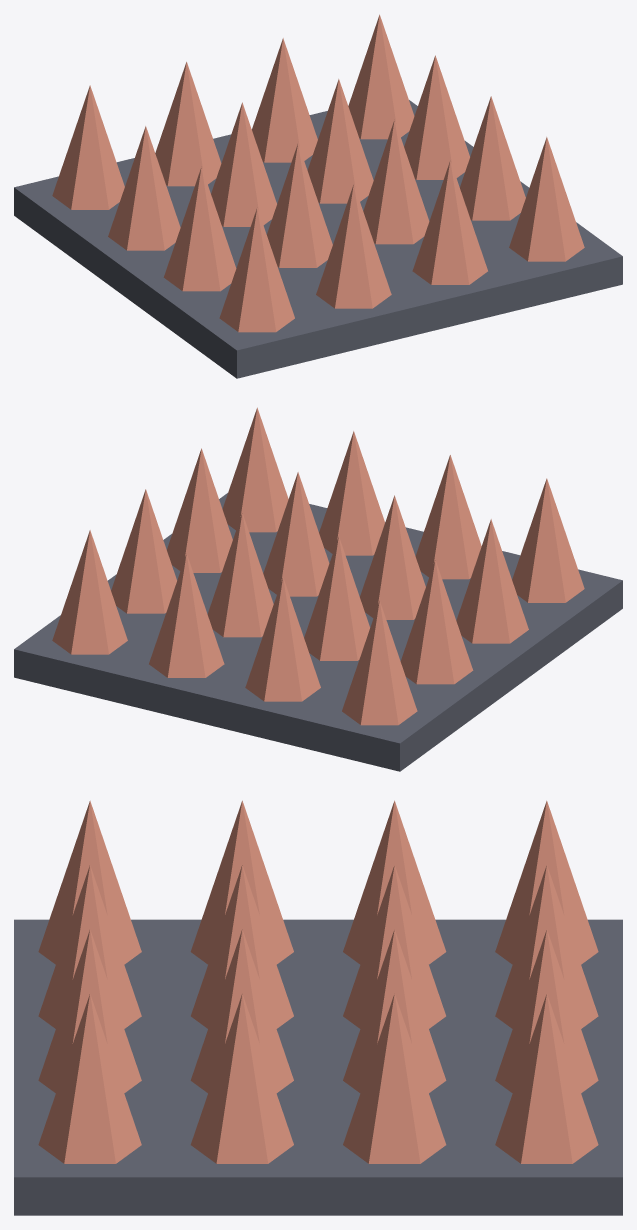
The model's file is Trap_Espinhos.fbx.
The picture shows the model from 3 angles, top to bottom: view 1: azimuth 30°, elevation 25°; view 2: azimuth 150°, elevation 25°; view 3: azimuth 270°, elevation 25°; orthographic projection. The views are drawn at different scales.
Visible parts, largest first — view 1: Trap_Espinhos; view 2: Trap_Espinhos; view 3: Trap_Espinhos.
Part boxes in pixels (x1,y1,x2,y2): Trap_Espinhos: [14, 14, 622, 378]; Trap_Espinhos: [14, 407, 622, 771]; Trap_Espinhos: [14, 800, 622, 1215].
Size of the model in its own units: 2 by 0.69 by 2.
